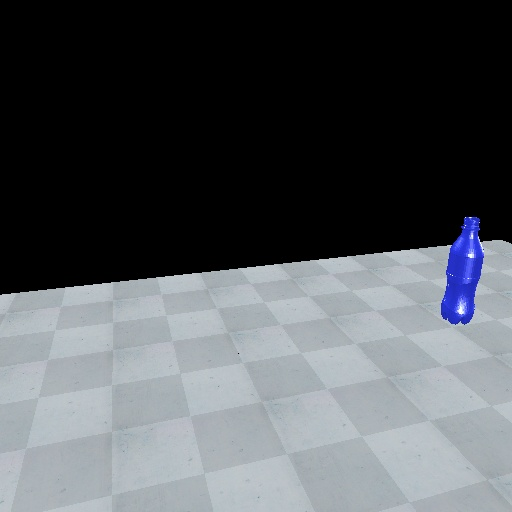bottle: (440, 214, 486, 327)
